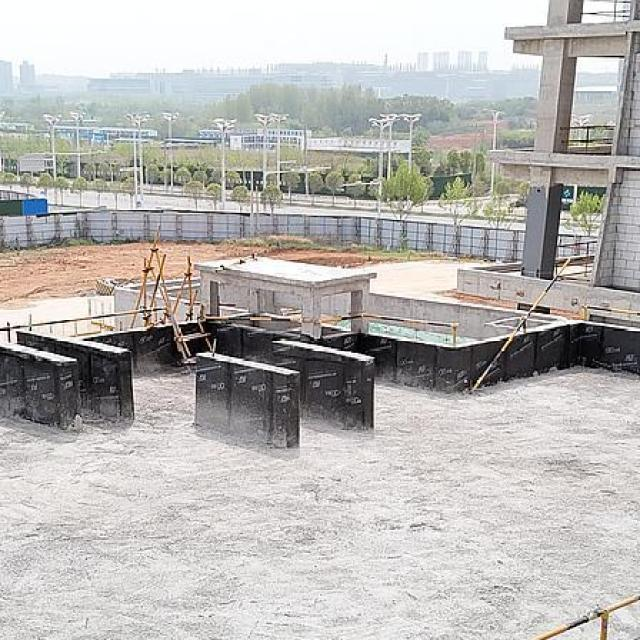Guardrail: (468, 258, 572, 395), (204, 314, 459, 346), (0, 306, 163, 344), (530, 591, 640, 640), (560, 125, 616, 154), (580, 0, 631, 23), (581, 304, 640, 322), (556, 240, 598, 256), (554, 263, 593, 276)
